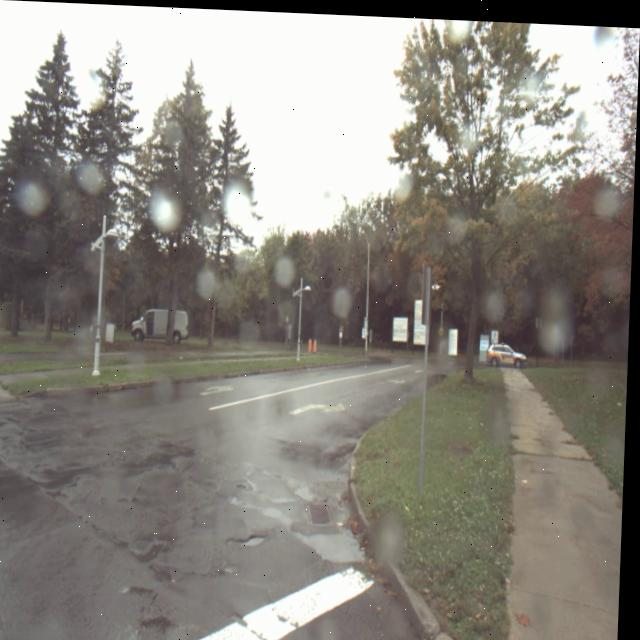car: (489, 338, 531, 362)
